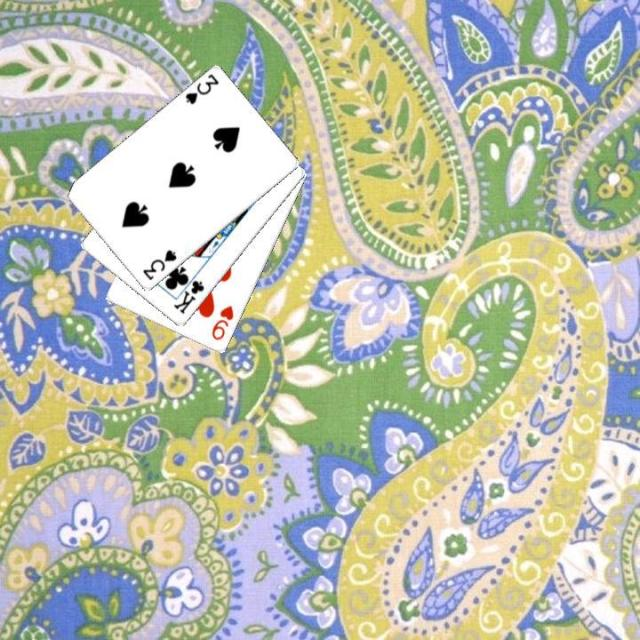3S: (138, 246, 178, 283), (182, 70, 220, 107)
9H: (208, 302, 236, 342)
KC: (170, 270, 206, 316)
